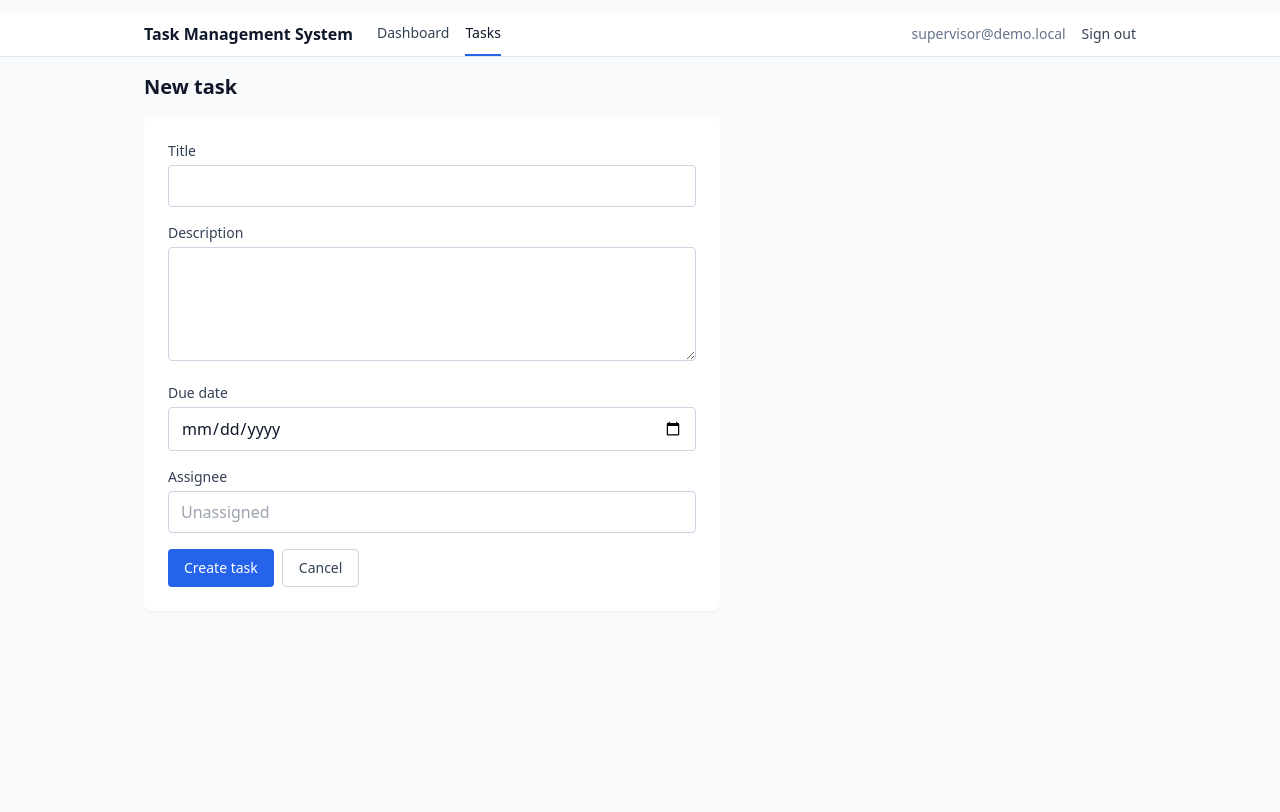
Scenario: TaskForm › shows the message in the alert, focused, when the errors name no rendered field (D75)
Type "A task" into the field labelled "Title" at (432, 186), box [168, 165, 696, 207]
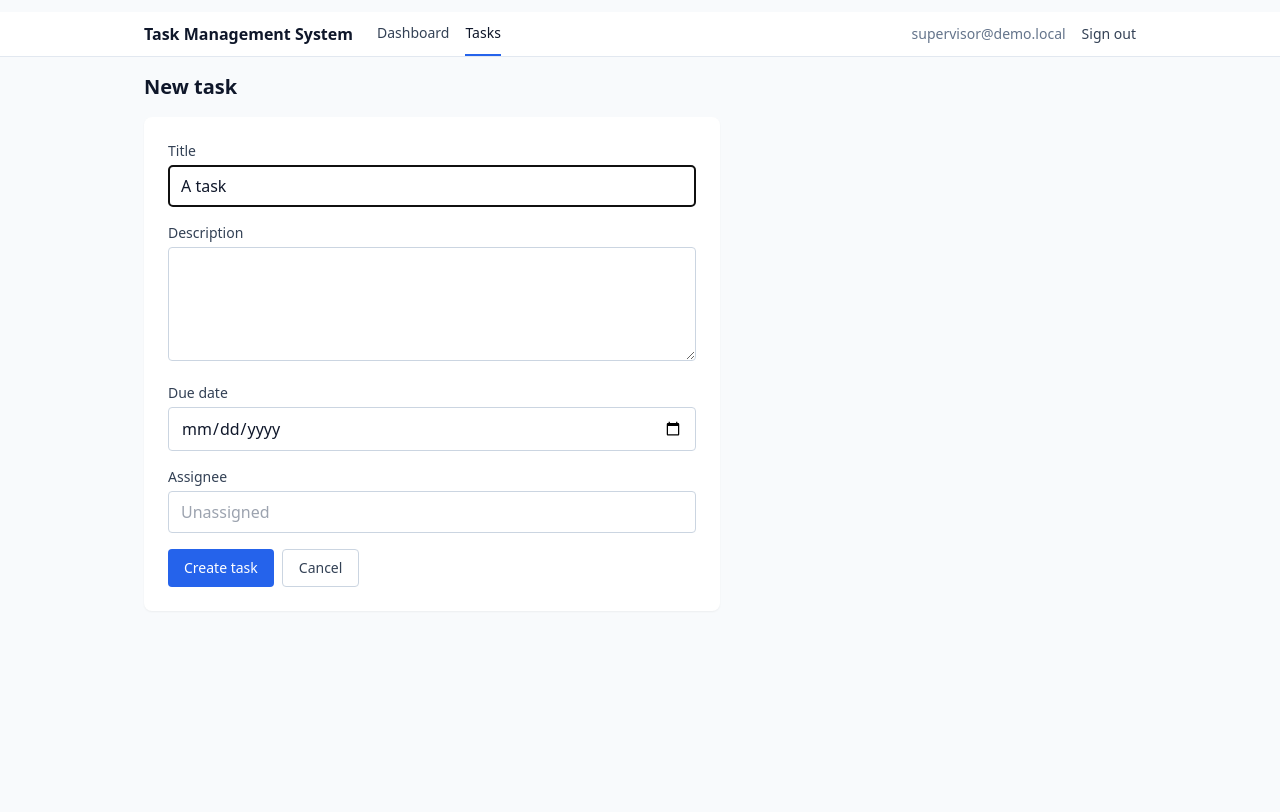
Click the button "Create task" at (221, 568), box [168, 549, 274, 587]
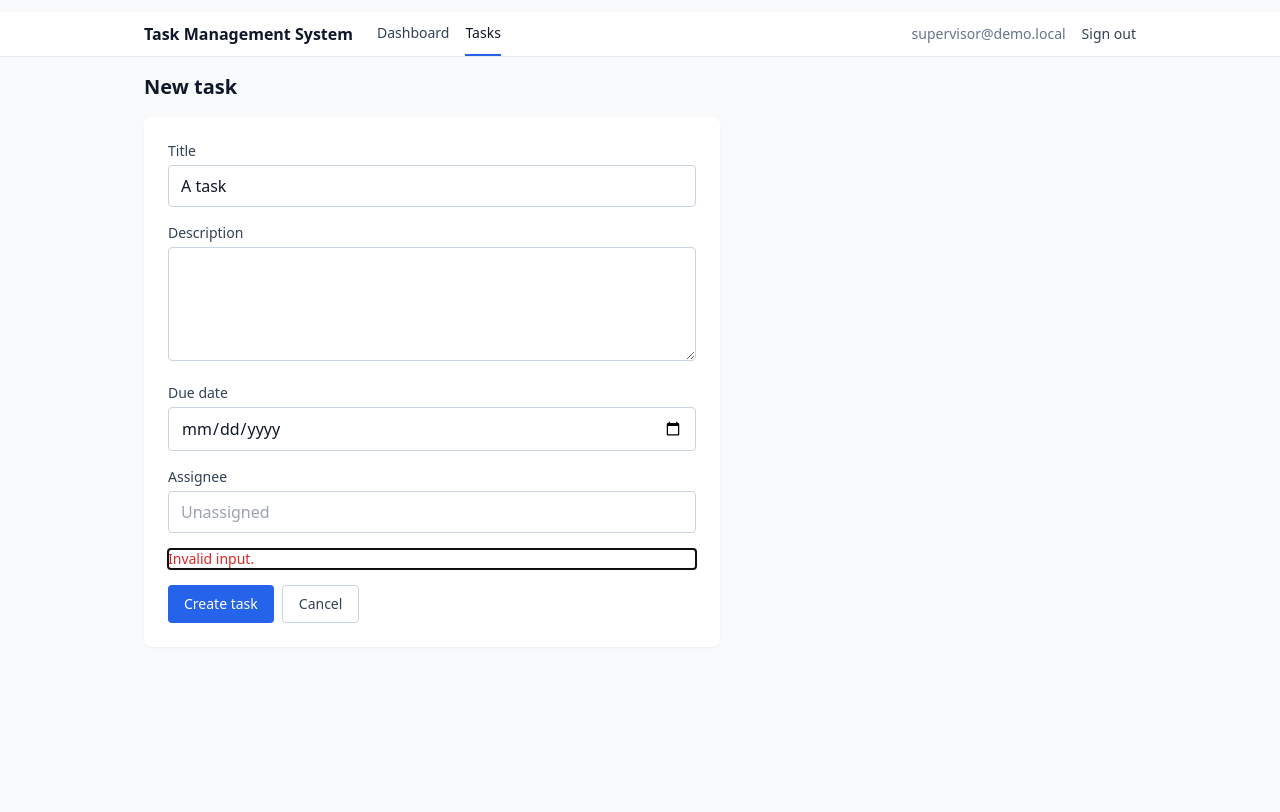
Expected: the message shows "Invalid input", [168, 549, 254, 568]
